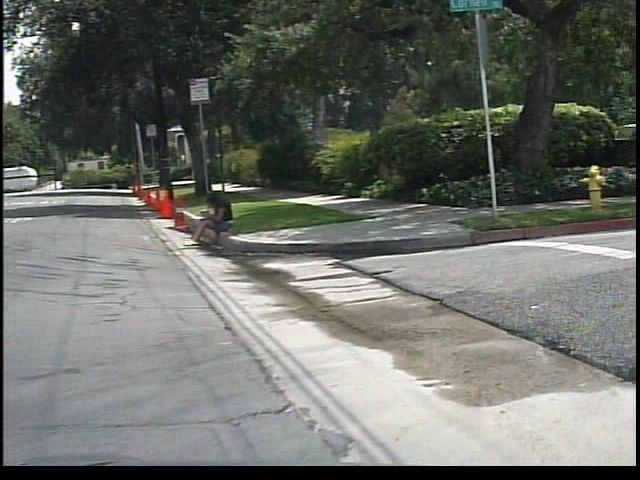person: (188, 190, 246, 247)
